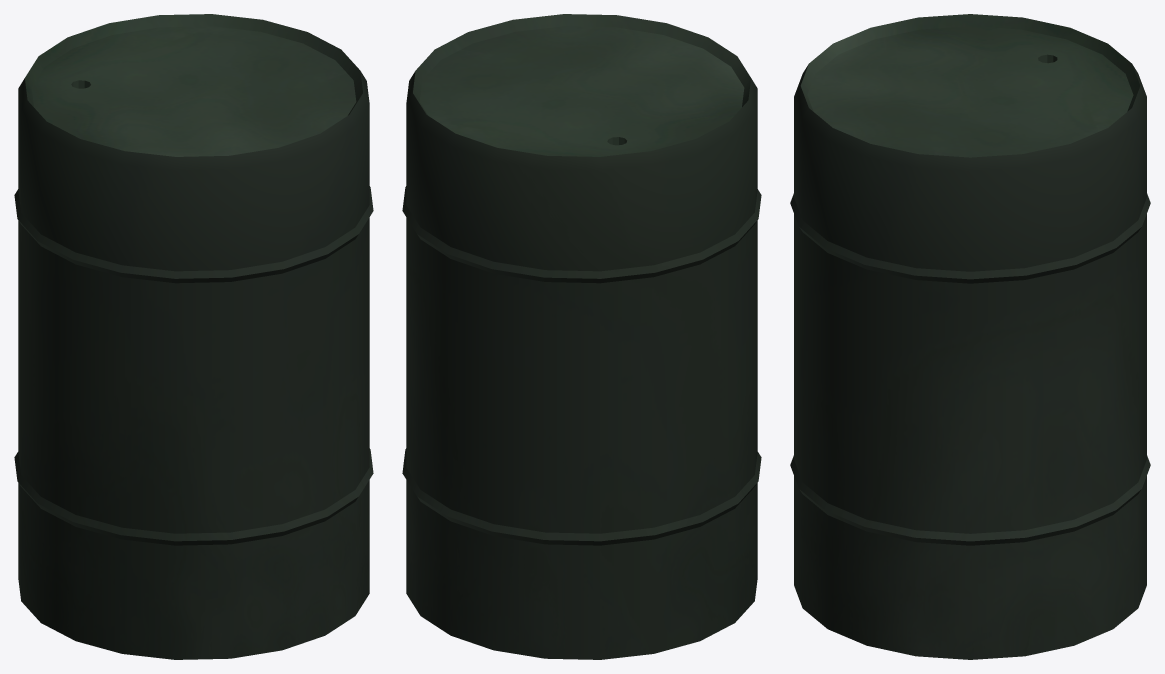
File: OilDrum.fbx
3 renders of one model, left to right at view 1: azimuth 30°, elevation 25°; view 2: azimuth 150°, elevation 25°; view 3: azimuth 270°, elevation 25°, orthographic.
Parts seen in each view (by area): view 1: Cylinder.001; view 2: Cylinder.001; view 3: Cylinder.001.
Boxes of the visible parts, x1,y1,x2,y2 form: Cylinder.001: (14,14,373,659); Cylinder.001: (402,14,761,659); Cylinder.001: (790,14,1150,659).
Size of the model in its own units: 123 by 187 by 123.
